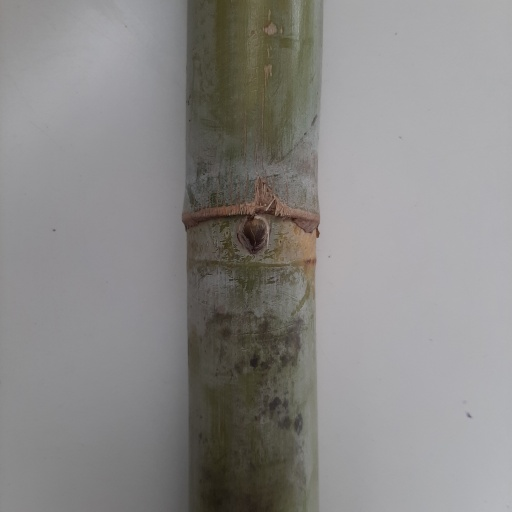Bud: (236, 215, 270, 255)
